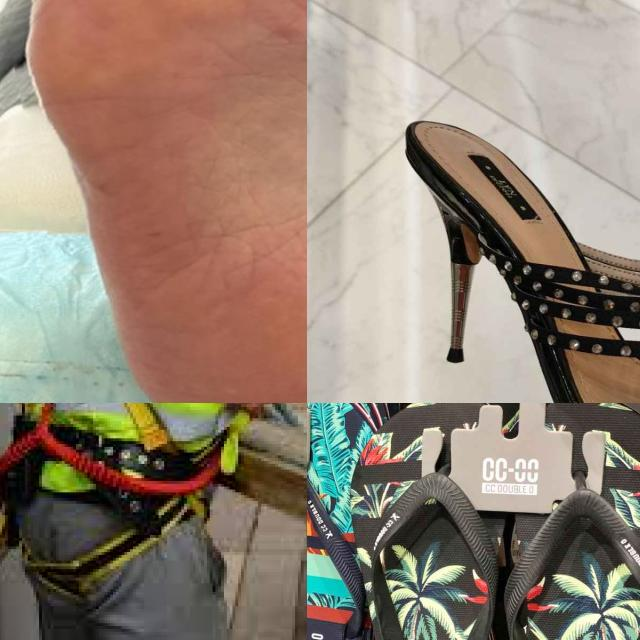Barefoots: (14, 0, 307, 403)
Harness: (0, 403, 241, 614)
Sandals: (370, 92, 640, 403), (347, 403, 640, 640), (307, 403, 383, 640)
